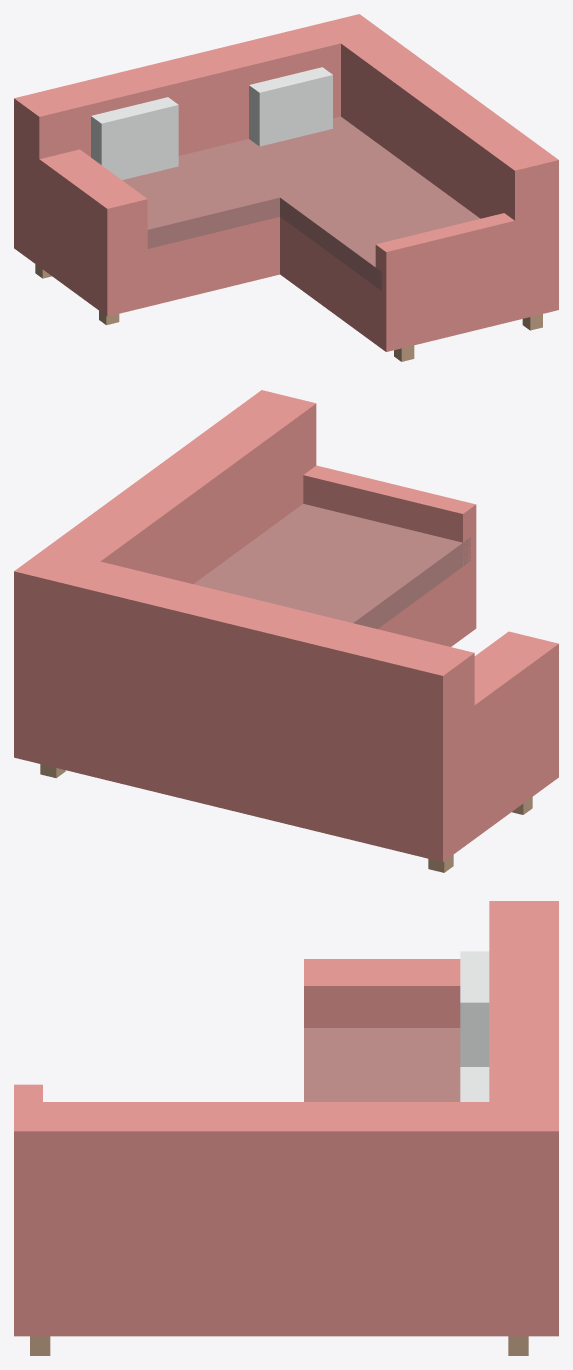
Rendered from sectionalCozy.glb.
The picture shows the model from 3 angles, top to bottom: view 1: azimuth 30°, elevation 25°; view 2: azimuth 150°, elevation 25°; view 3: azimuth 270°, elevation 25°; orthographic projection. The views are drawn at different scales.
Parts seen in each view (by area): view 1: sectionalCozy; view 2: sectionalCozy; view 3: sectionalCozy.
Boxes of the visible parts, box(x1,y1,x2,y2) form: sectionalCozy: box(14, 14, 558, 361); sectionalCozy: box(14, 390, 558, 872); sectionalCozy: box(14, 901, 558, 1355).
Size of the model in its own units: 0.94 by 0.44 by 0.94.
